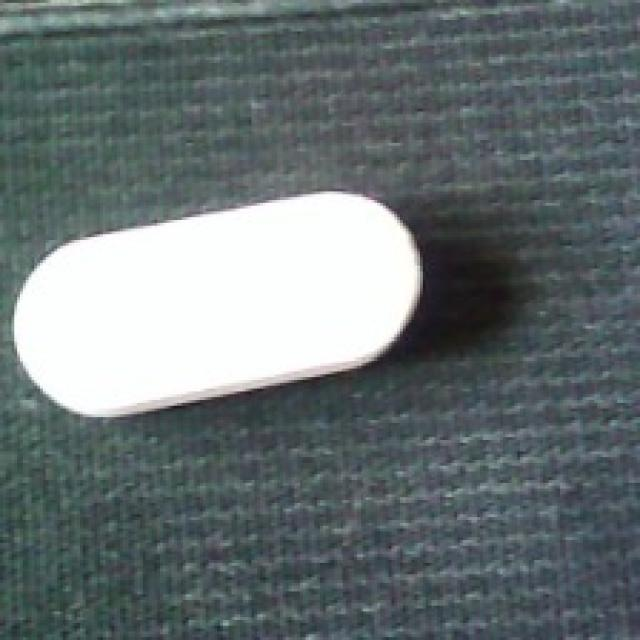no-defect: (6, 185, 430, 420)
